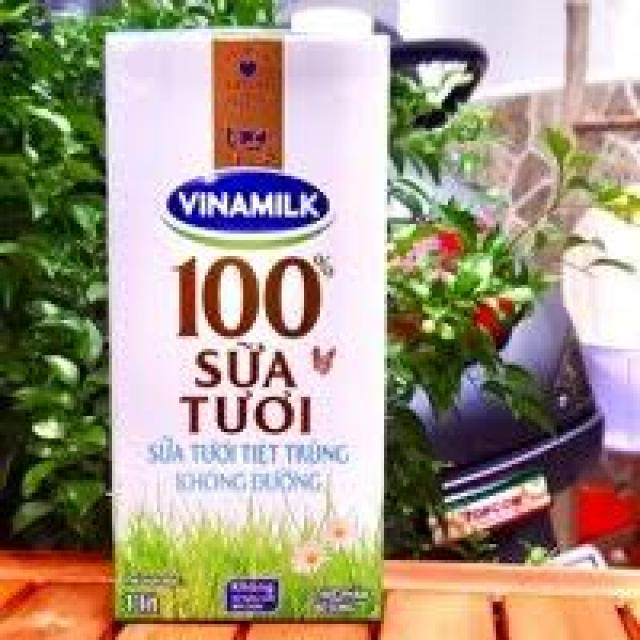non_white_jug: (85, 3, 411, 634)
